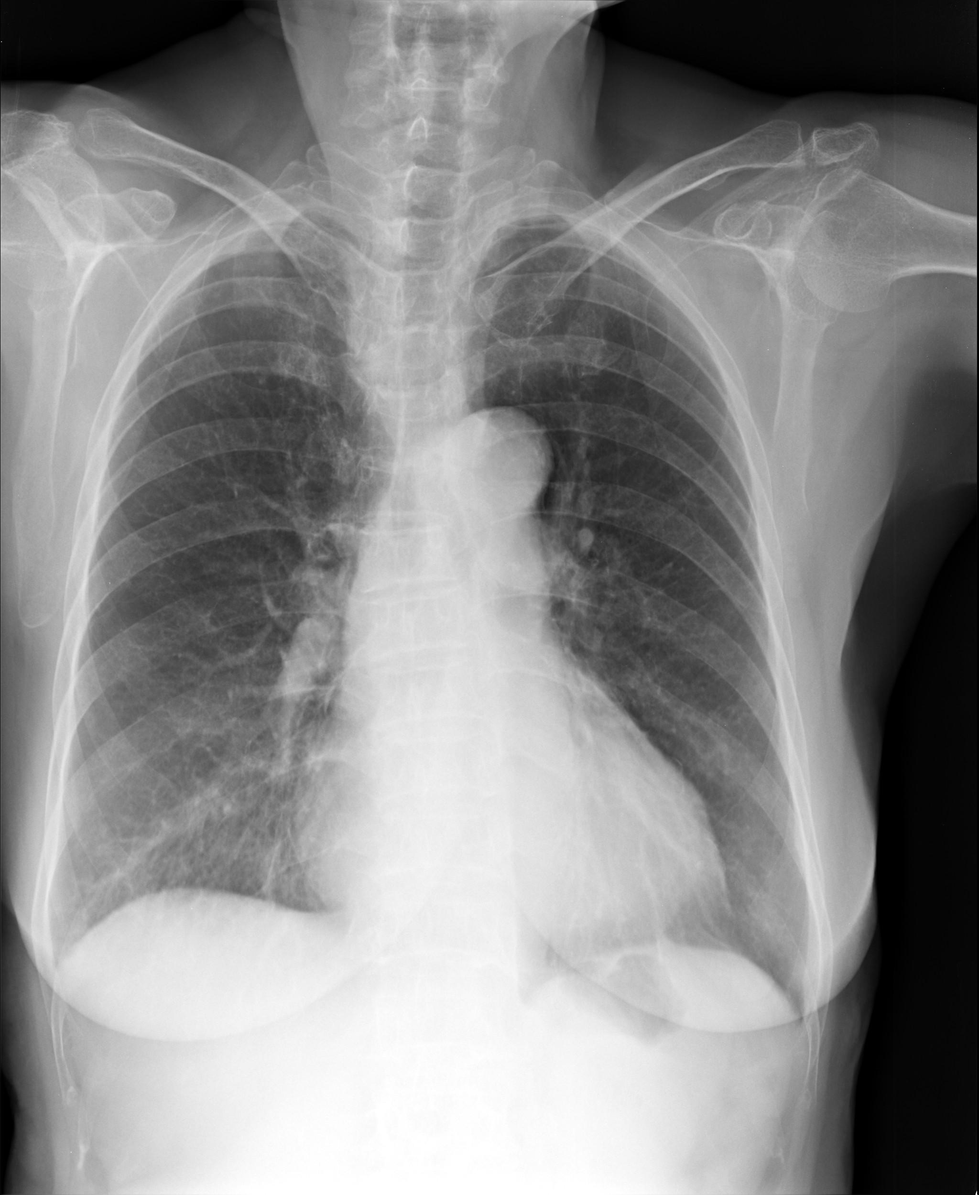Aortic enlargement: (441, 406, 556, 506)
Cardiomegaly: (288, 790, 710, 940)
Pleural thickening: (242, 204, 363, 234), (465, 218, 561, 245)
